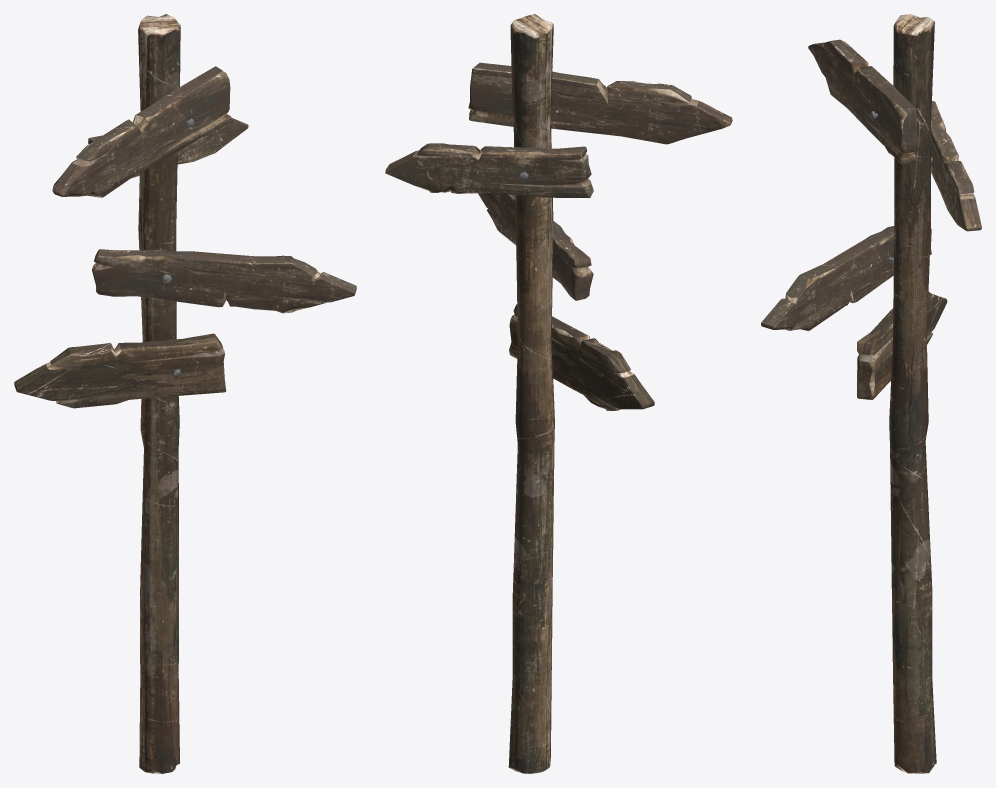
The picture shows the model from 3 angles, left to right: view 1: azimuth 30°, elevation 25°; view 2: azimuth 150°, elevation 25°; view 3: azimuth 270°, elevation 25°; orthographic projection.
Parts seen in each view (by area): view 1: SM_Wooden_Sign_02v1_LOD0; view 2: SM_Wooden_Sign_02v1_LOD0; view 3: SM_Wooden_Sign_02v1_LOD0.
Boxes of the visible parts, x1,y1,x2,y2 form: SM_Wooden_Sign_02v1_LOD0: (14,14,356,773); SM_Wooden_Sign_02v1_LOD0: (385,14,732,773); SM_Wooden_Sign_02v1_LOD0: (761,14,981,773).
Size of the model in its own units: 1.04 by 2.65 by 0.7106.
1 material, 1 textured.
